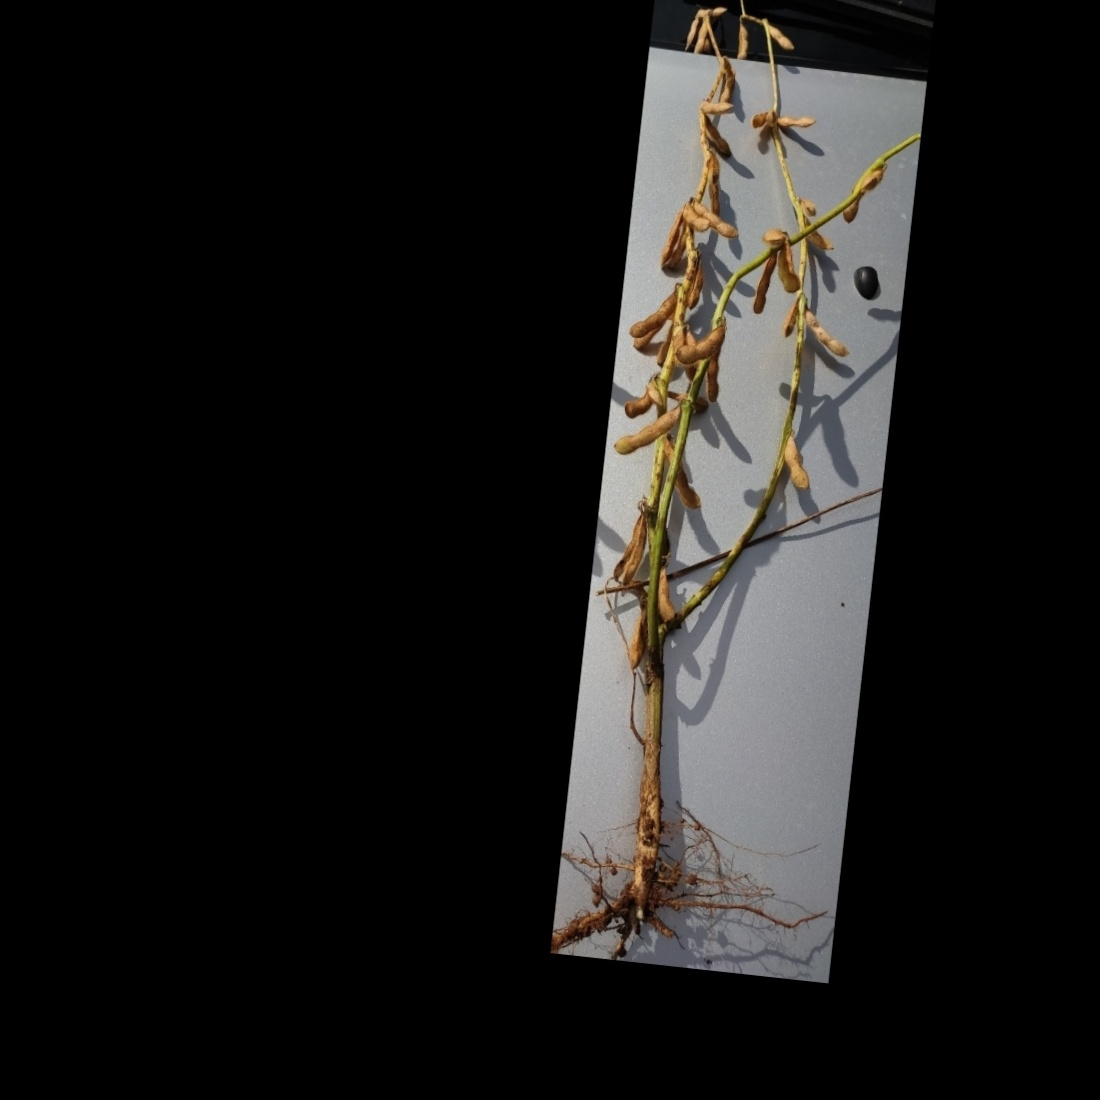pod: (612, 399, 682, 461), (624, 278, 678, 343), (801, 300, 858, 360), (672, 317, 727, 369), (688, 193, 744, 239), (749, 247, 781, 327), (779, 433, 816, 497), (651, 563, 679, 624), (772, 109, 818, 136), (761, 20, 799, 52), (733, 20, 755, 68), (698, 98, 743, 120), (687, 0, 742, 7)
soy: (558, 0, 918, 944)
